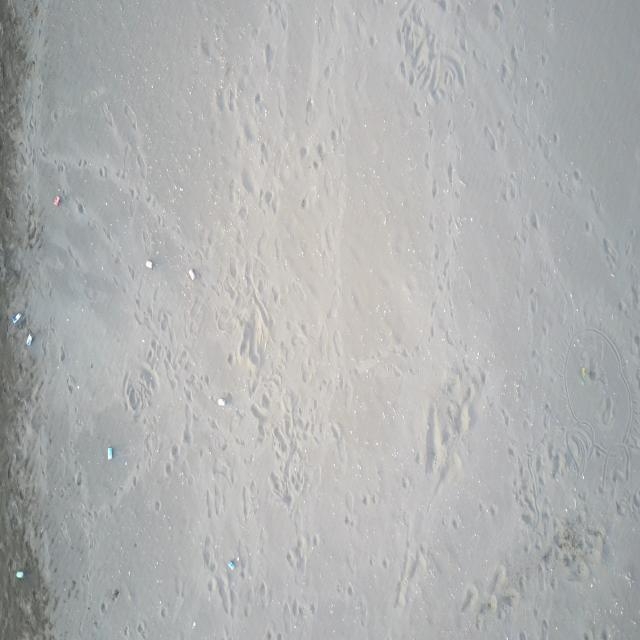Garbage: (11, 312, 23, 324), (24, 332, 32, 346), (187, 267, 195, 280), (216, 396, 226, 406), (580, 366, 587, 380), (16, 569, 24, 579), (52, 196, 60, 206), (227, 560, 236, 568), (144, 260, 151, 268), (107, 447, 111, 460)
